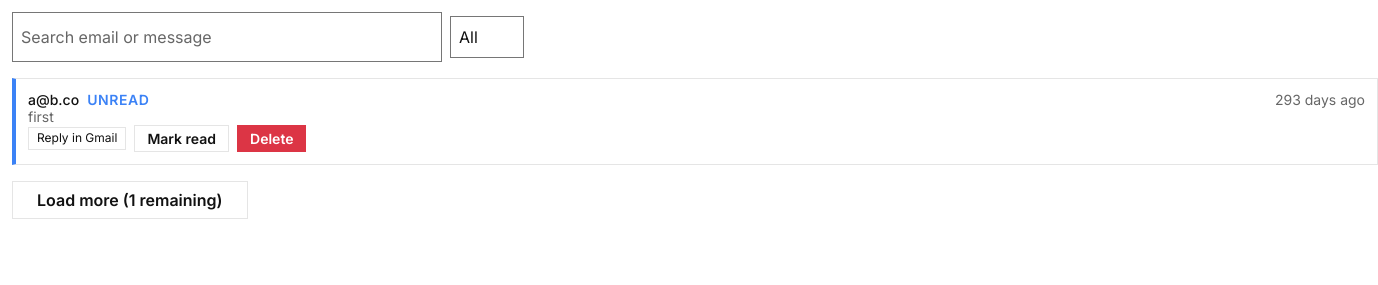
Test: CommentsList › renders Load more when more exist, and pages with the active filter
Click the button "Load more (1 remaining)": (130, 200) x1=12 y1=181 x2=248 y2=219
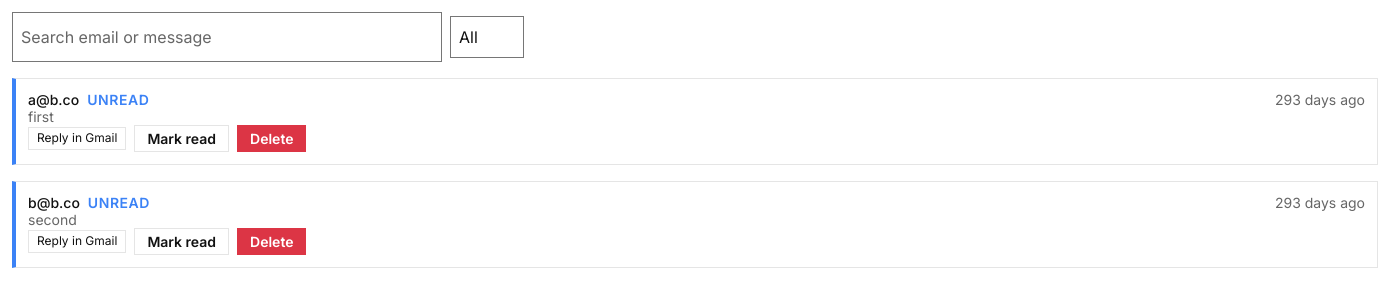
Expected: the text "second" is shown, x1=28 y1=211 x2=77 y2=228
